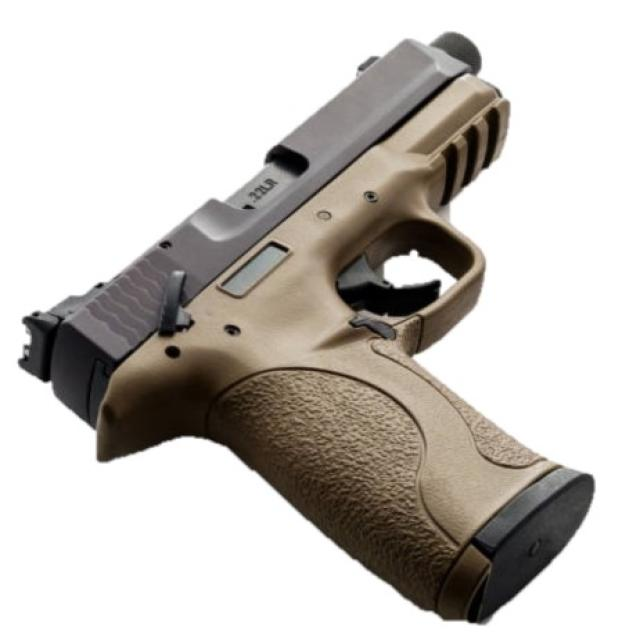pistol: (2, 18, 610, 639)
